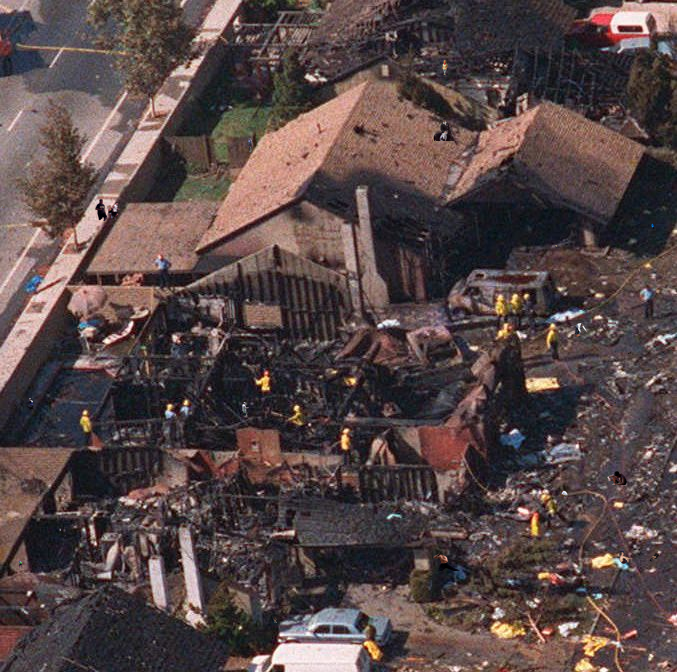Human: (163, 401, 180, 446), (79, 409, 97, 450), (544, 321, 561, 364), (255, 368, 273, 407), (177, 397, 193, 440), (0, 30, 14, 77), (640, 284, 656, 319), (95, 199, 120, 221), (433, 553, 463, 571), (154, 254, 172, 284), (619, 551, 660, 564), (434, 117, 456, 141), (423, 60, 448, 79), (601, 471, 627, 485), (575, 323, 589, 337), (24, 398, 36, 412), (242, 402, 249, 416), (247, 138, 253, 153), (559, 490, 568, 498), (651, 221, 658, 230), (59, 527, 66, 536), (18, 560, 23, 570), (273, 616, 277, 623), (1, 206, 8, 208), (394, 477, 398, 480), (555, 245, 558, 249), (77, 326, 79, 331), (627, 260, 629, 265), (321, 4, 323, 9), (614, 401, 616, 406), (300, 1, 302, 6), (628, 351, 631, 354), (538, 614, 541, 617), (605, 258, 608, 261)
